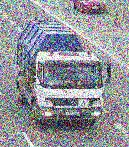truck: (17, 12, 110, 129)
